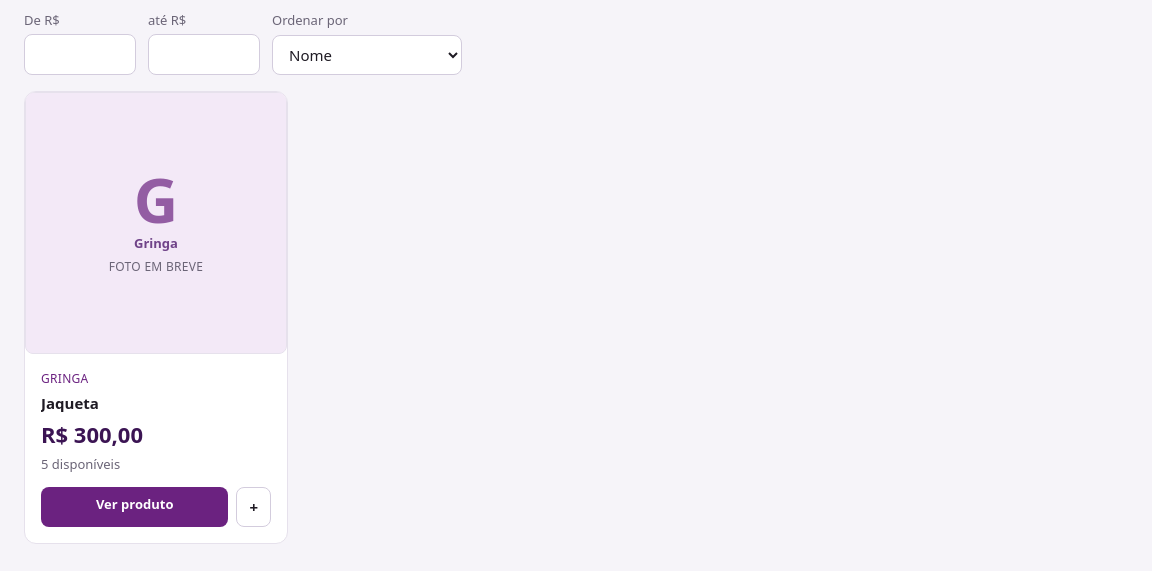
Test: GAP-PRD-028 — o checkout com conta pede o endereço de entrega completo › endereço escolhido sem IBGE: diz o que falta, trava o fechamento, completa ali mesmo e fecha
(page scrolled)
Expected: the text "Jaqueta" is shown, [41,392,99,412]
Click the button "+". click: (254, 507)
box: [236,486,271,527]
(page scrolled)
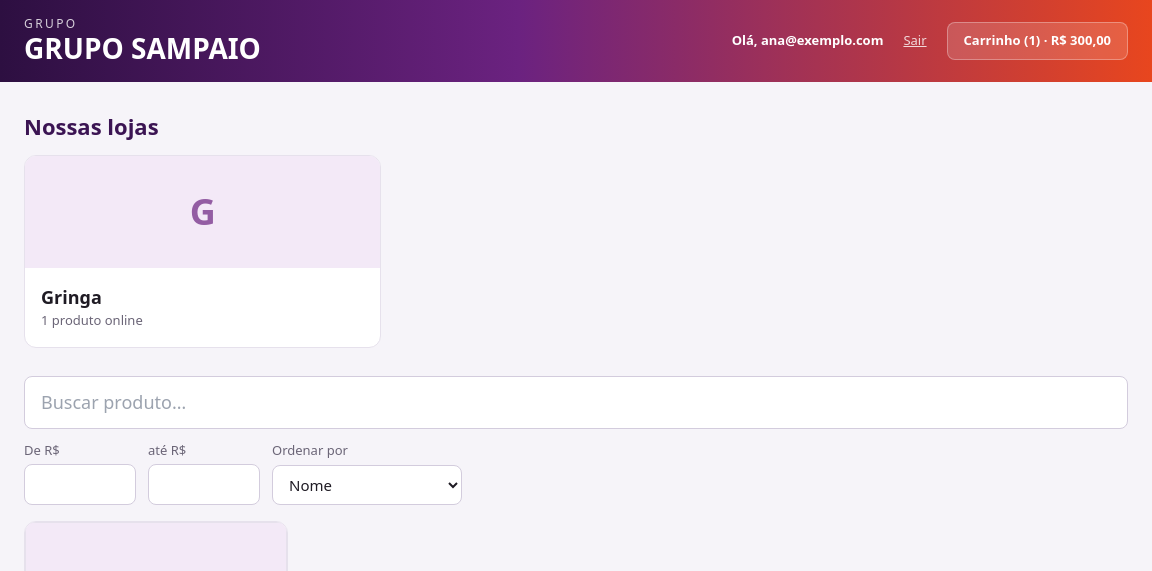
Click the button "Carrinho (1) · R$ 300,00". click: (1037, 41)
box: [947,22,1128,60]
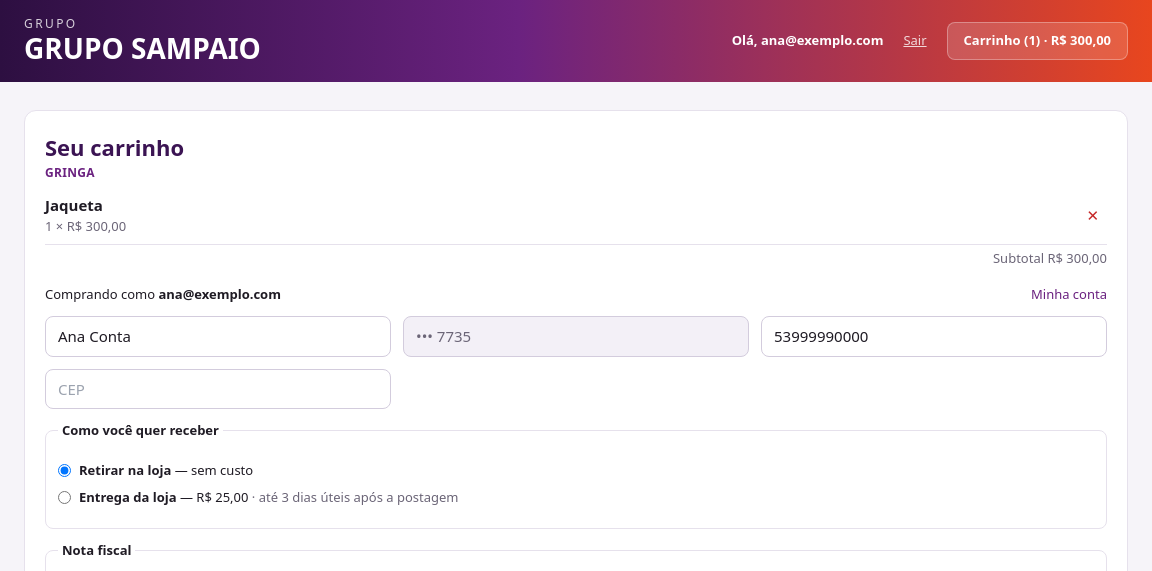
Click the radio button labelled "Entrega da loja". click: (64, 498)
box: [58,491,71,504]
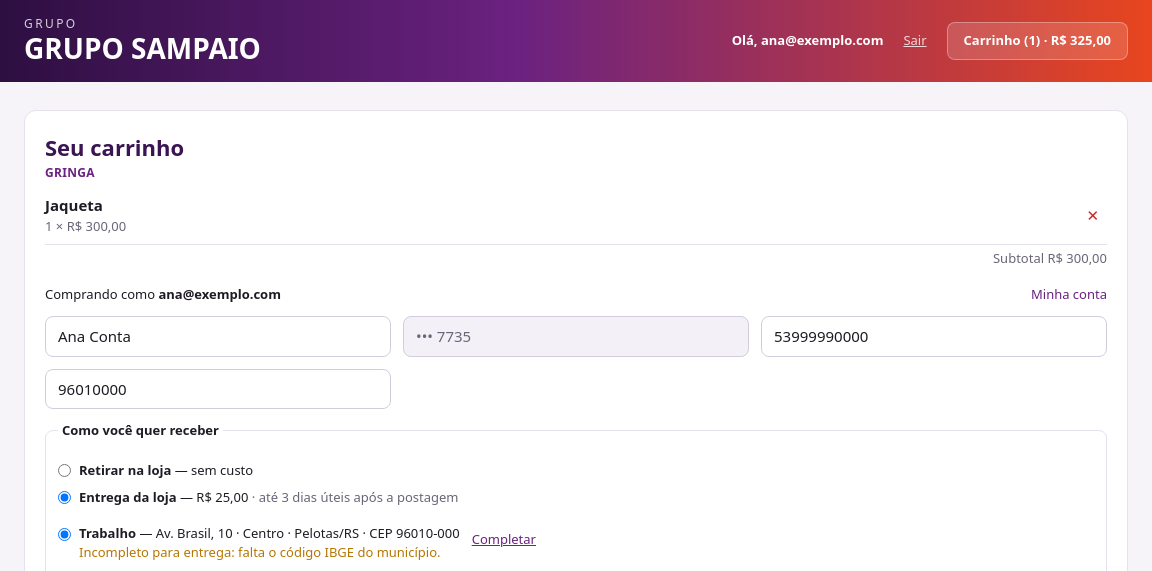
Now the radio button labelled "Trabalho" is checked, box [58,528,71,540]
Now the text "Incompleto para entrega: falta o código IBGE do município." is shown, box [79,543,460,562]
Click the button with aria-label "Completar Trabalho". click: (504, 540)
box: [472,524,536,556]
(page scrolled)
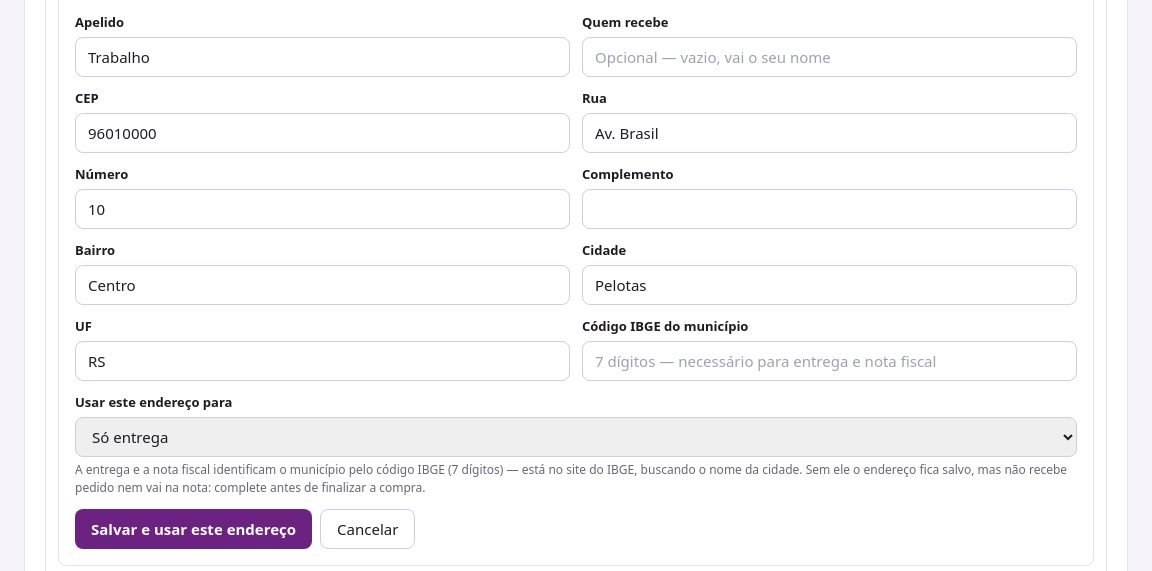
Now the field labelled "Número" holds "10", box [75,188,570,229]
Type "4314407" into the field labelled "Código IBGE do município". click: (830, 361)
box: [582,340,1077,381]
Click the button "Salvar e usar este endereço". click: (194, 529)
box: [75,508,312,549]
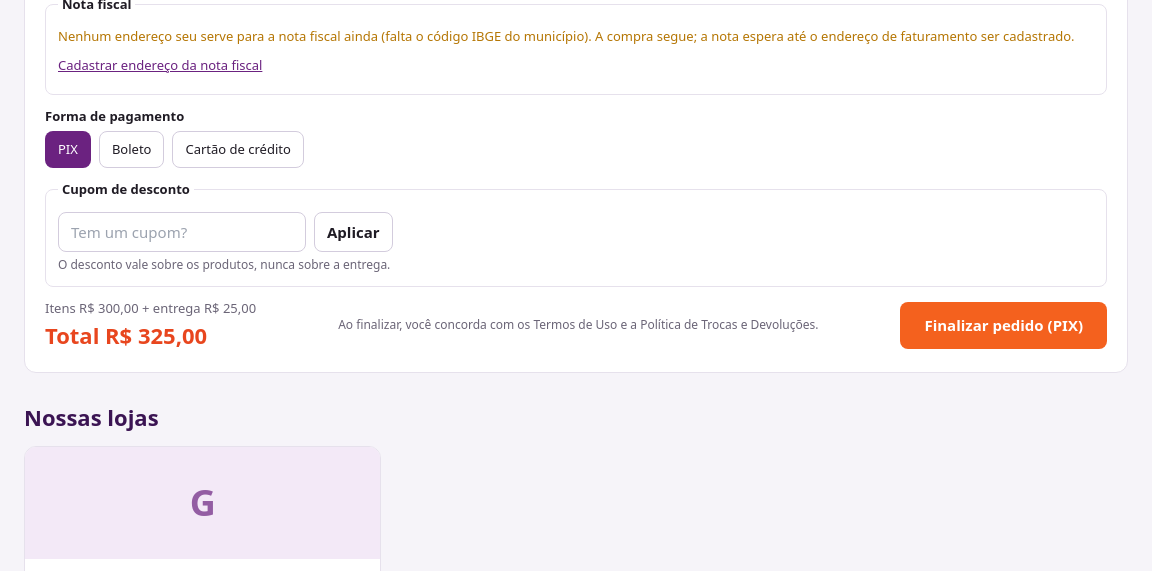
Now the button "Finalizar pedido (PIX)" is enabled
Click the button "Finalizar pedido (PIX)". click: (1004, 325)
box: [900,302,1107,348]
(page scrolled)
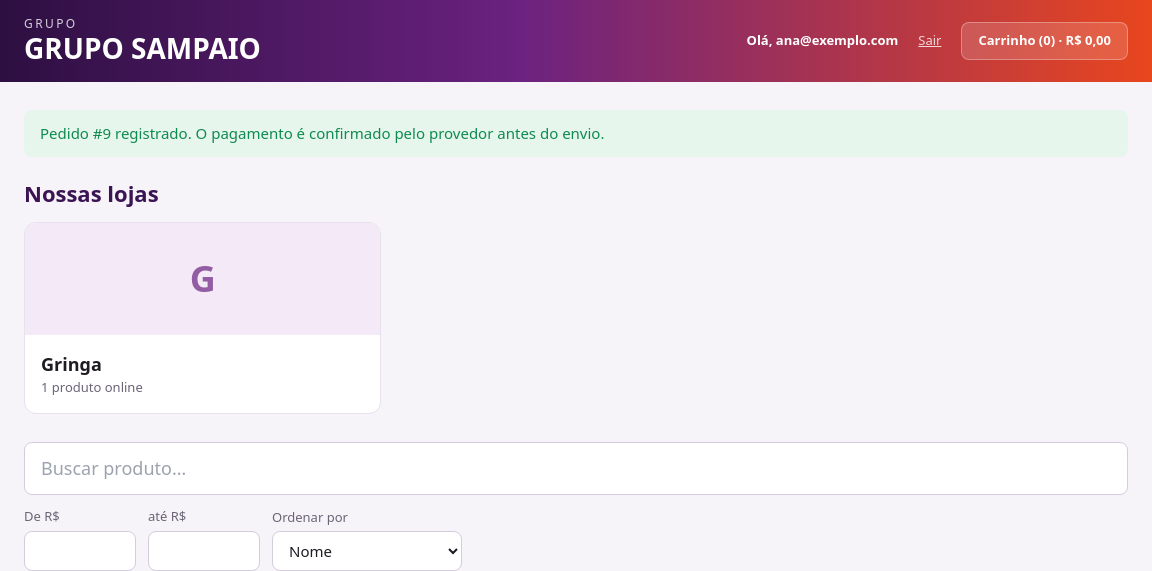
Now the text "Pedido #9 registrado. O pagamento é confirmado pelo provedor antes do envio." is shown, box [24,110,1128,156]
